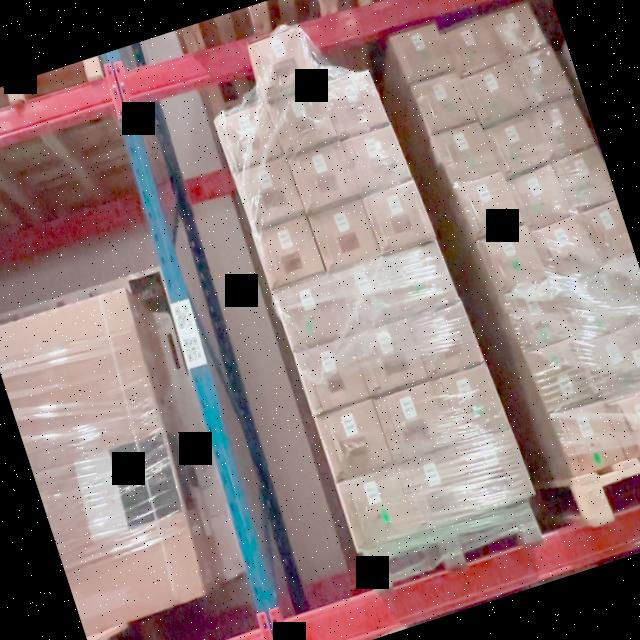box: (337, 466, 415, 551), (316, 399, 392, 482), (374, 383, 450, 463), (458, 429, 532, 508), (294, 336, 368, 414), (434, 362, 506, 442), (398, 449, 473, 525), (552, 400, 624, 478), (274, 274, 346, 350), (352, 320, 425, 394), (386, 240, 456, 316), (412, 302, 482, 378), (330, 257, 400, 331), (254, 216, 324, 288), (364, 180, 432, 252), (235, 156, 302, 228), (214, 104, 284, 172), (528, 338, 594, 410), (310, 200, 378, 269), (342, 126, 410, 194), (289, 142, 356, 210), (562, 272, 625, 344), (268, 86, 336, 152), (481, 226, 543, 295), (250, 28, 315, 92), (536, 217, 596, 285), (323, 72, 385, 136), (460, 172, 519, 238), (508, 284, 568, 348), (558, 146, 614, 214), (434, 120, 494, 183), (586, 330, 640, 399), (512, 163, 567, 230), (510, 46, 568, 106), (489, 114, 545, 176), (416, 73, 472, 134), (469, 64, 524, 124), (535, 99, 589, 158), (585, 200, 634, 262), (396, 25, 449, 81), (486, 5, 540, 58), (448, 21, 498, 75), (608, 385, 640, 457), (607, 253, 640, 321)
